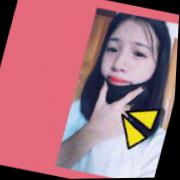WRONG: (93, 24, 165, 107)
